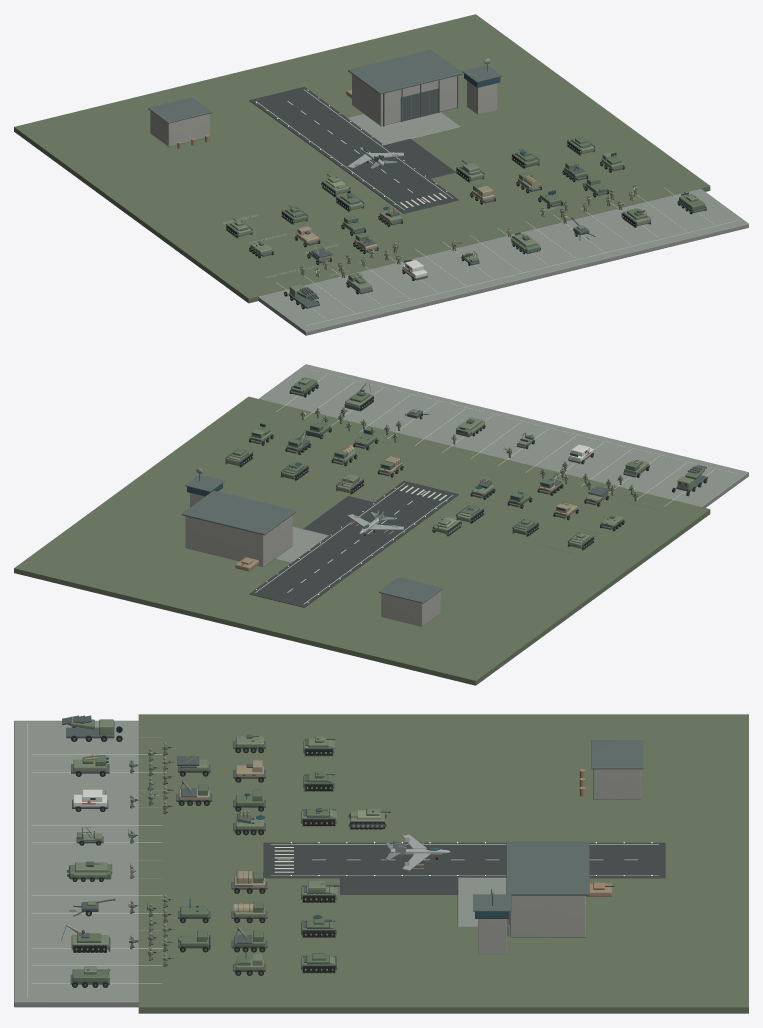
The model's file is combined-arms-r8.glb.
The picture shows the model from 3 angles, top to bottom: view 1: azimuth 30°, elevation 25°; view 2: azimuth 150°, elevation 25°; view 3: azimuth 270°, elevation 25°; orthographic projection. The views are drawn at different scales.
Visible parts, largest first — view 1: ENV_Terrain_Master, ENV_MotorPool_Extension, ENV_Runway_Main, ENV_Hangar_Roof, ENV_Hangar_Main, ENV_Apron, OBJ_Logistics_Depot, ENV_Taxiway_East, OBJ_Logistics_Roof, ENV_Hangar_Door_Recess, ENV_Tower_Base; view 2: ENV_Terrain_Master, ENV_MotorPool_Extension, ENV_Runway_Main, ENV_Hangar_Main, ENV_Hangar_Roof, OBJ_Logistics_Depot, ENV_Taxiway_East, OBJ_Logistics_Roof, ENV_Apron; view 3: ENV_Terrain_Master, ENV_MotorPool_Extension, ENV_Runway_Main, ENV_Hangar_Roof, ENV_Hangar_Main, ENV_Taxiway_East, OBJ_Logistics_Roof, OBJ_Logistics_Depot, ENV_Apron, ENV_Tower_Base, ENV_Tower_Roof.
Part boxes in pixels (x1,y1,x2,y2): ENV_Terrain_Master: (14,14,710,303); ENV_MotorPool_Extension: (258,188,748,335); ENV_Runway_Main: (249,86,458,213); ENV_Hangar_Roof: (348,49,462,94); ENV_Hangar_Main: (352,74,458,126); ENV_Apron: (348,112,460,144); OBJ_Logistics_Depot: (150,111,209,146); ENV_Taxiway_East: (384,138,455,178); OBJ_Logistics_Roof: (148,97,211,123); ENV_Hangar_Door_Recess: (400,88,438,121); ENV_Tower_Base: (467,81,497,114); ENV_Terrain_Master: (14,396,710,685); ENV_MotorPool_Extension: (259,364,748,507); ENV_Runway_Main: (249,481,458,607); ENV_Hangar_Main: (185,515,292,566); ENV_Hangar_Roof: (181,490,296,535); OBJ_Logistics_Depot: (381,591,440,626); ENV_Taxiway_East: (303,496,373,535); OBJ_Logistics_Roof: (379,577,442,603); ENV_Apron: (275,526,328,562); ENV_Terrain_Master: (138,714,748,1013); ENV_MotorPool_Extension: (14,720,138,1007); ENV_Runway_Main: (263,842,665,878); ENV_Hangar_Roof: (506,841,589,895); ENV_Hangar_Main: (509,895,585,937); ENV_Taxiway_East: (340,877,458,894); OBJ_Logistics_Roof: (591,740,643,769); OBJ_Logistics_Depot: (593,769,641,799); ENV_Apron: (457,877,509,926); ENV_Tower_Base: (478,919,506,954); ENV_Tower_Roof: (473,894,511,911).
Size of the model in its own units: 100 by 11.1 by 106.
